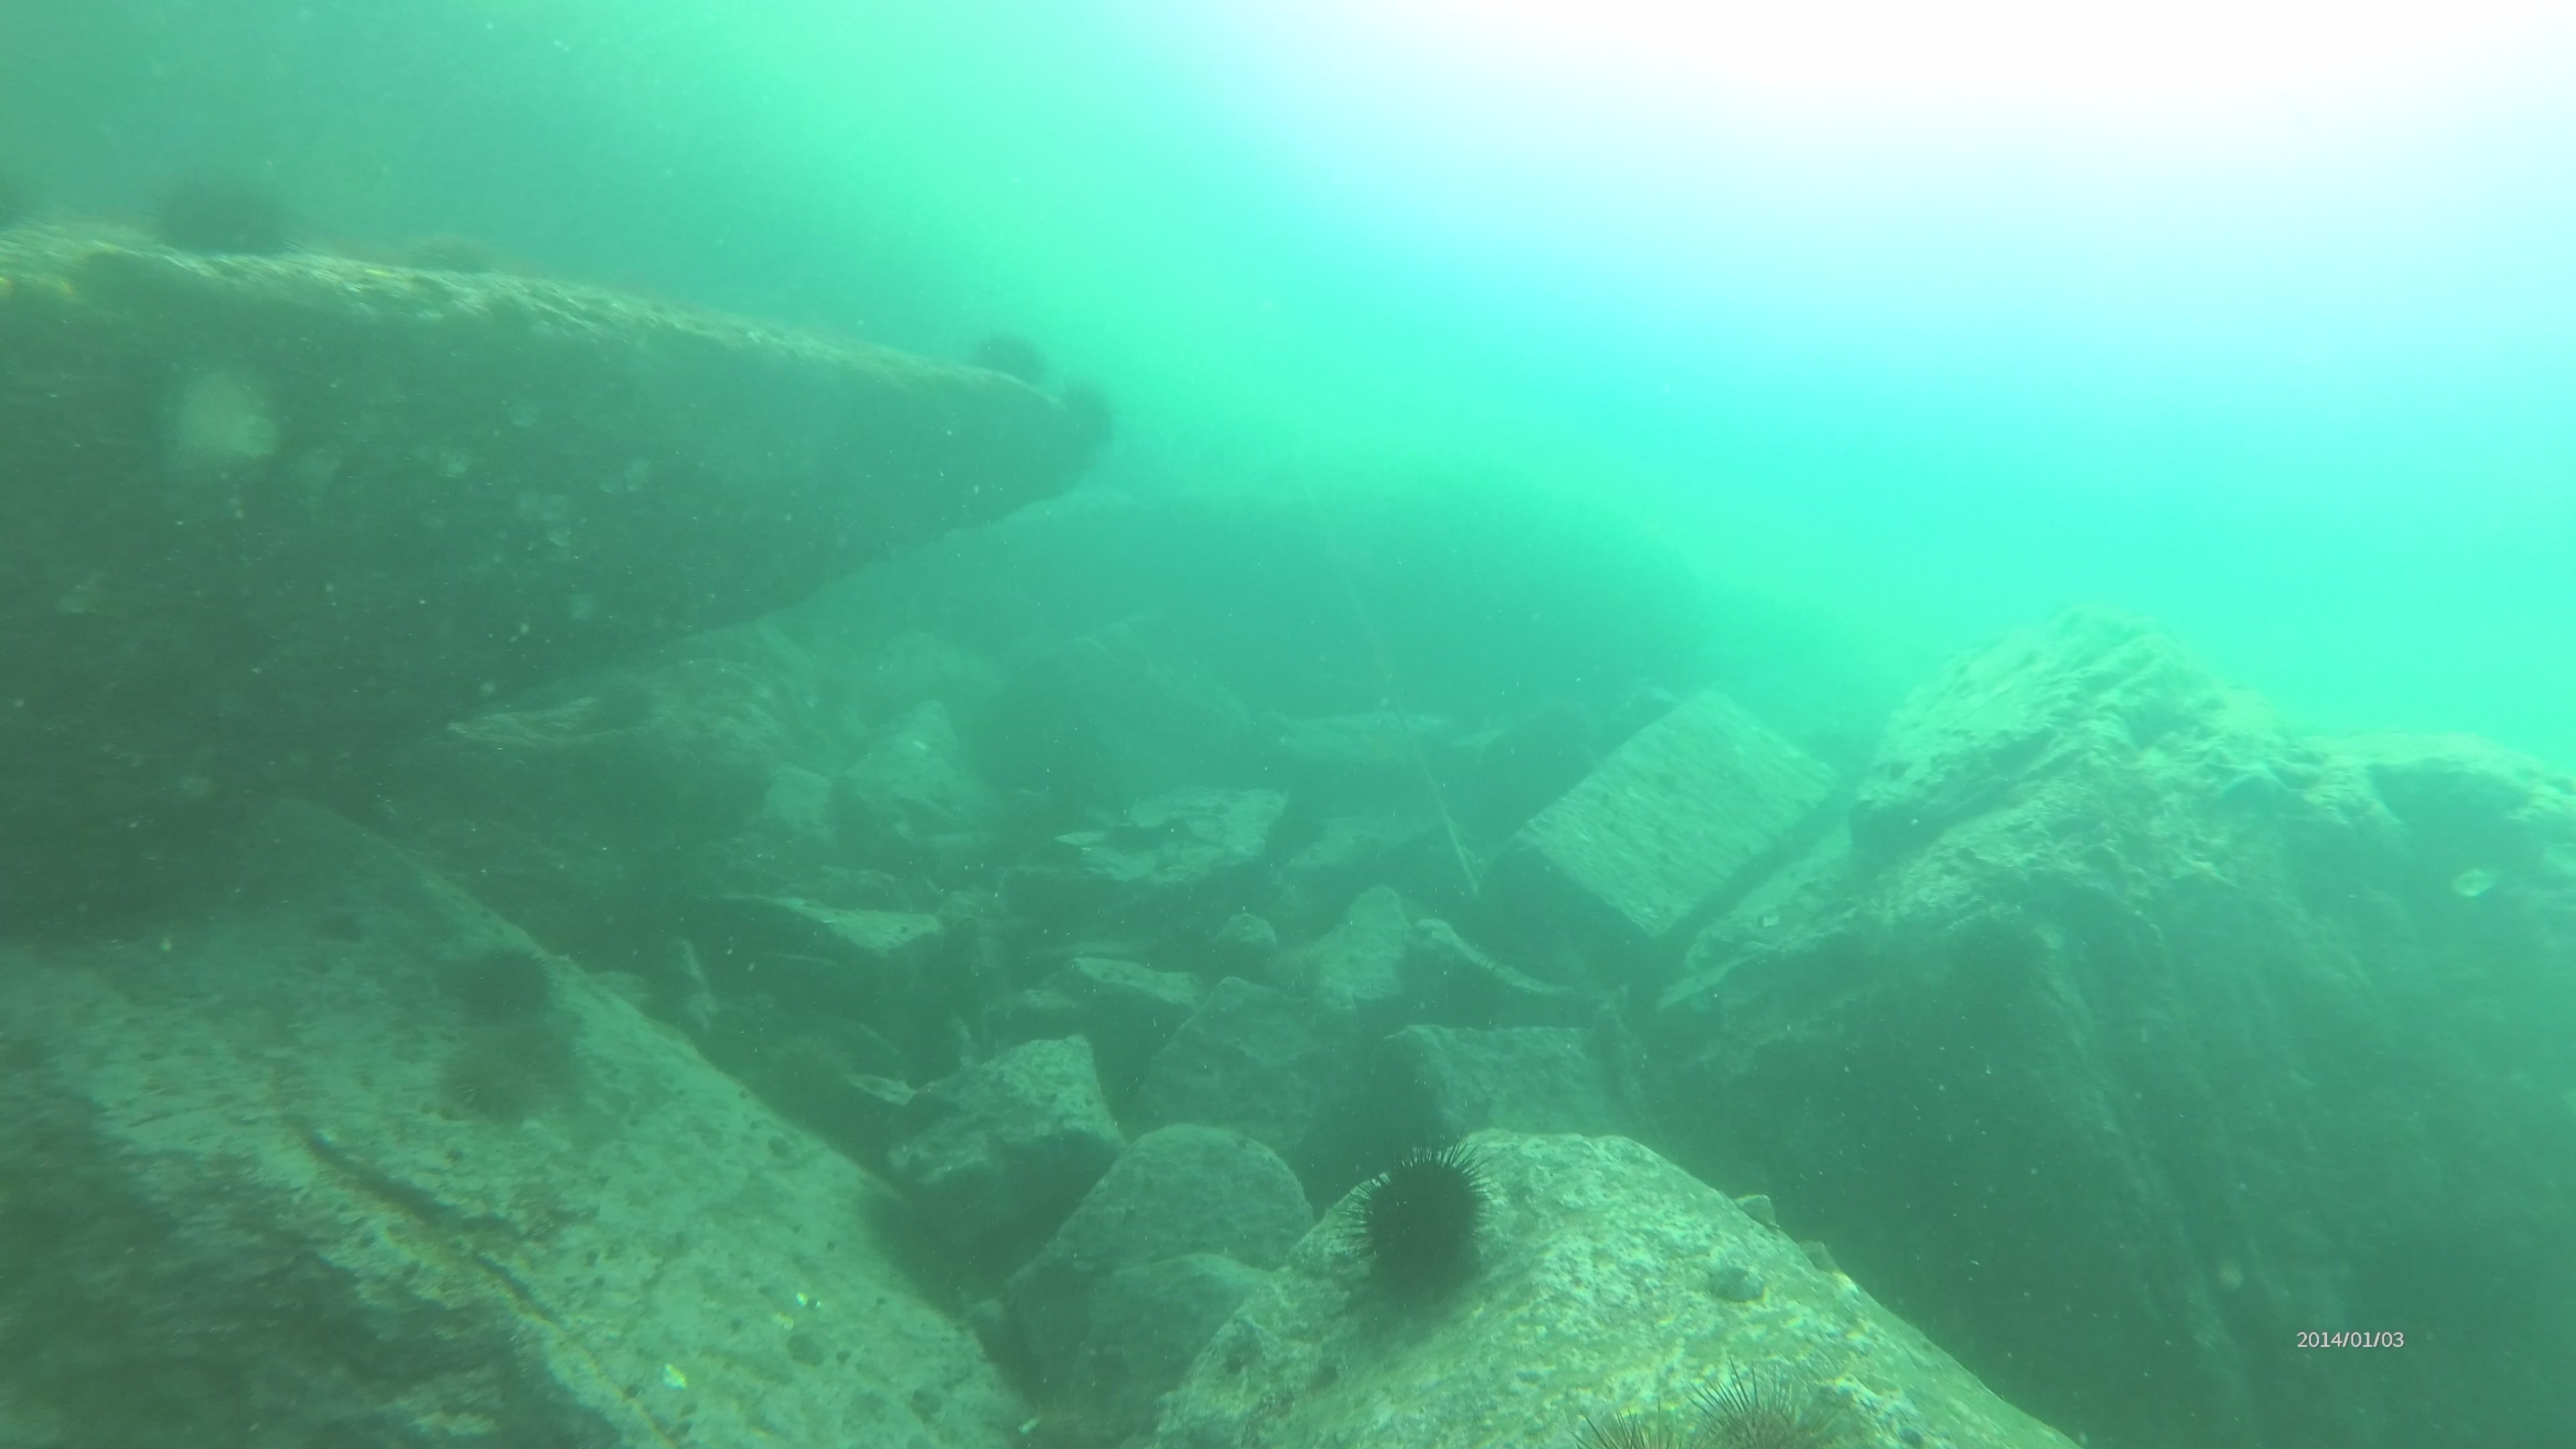echinus: (1338, 1138, 1500, 1316), (142, 161, 306, 274), (430, 1007, 579, 1129), (1665, 1362, 1868, 1444), (1937, 909, 2056, 1028), (442, 938, 561, 1033), (1028, 372, 1125, 485), (1548, 1392, 1688, 1449), (962, 318, 1056, 398)
